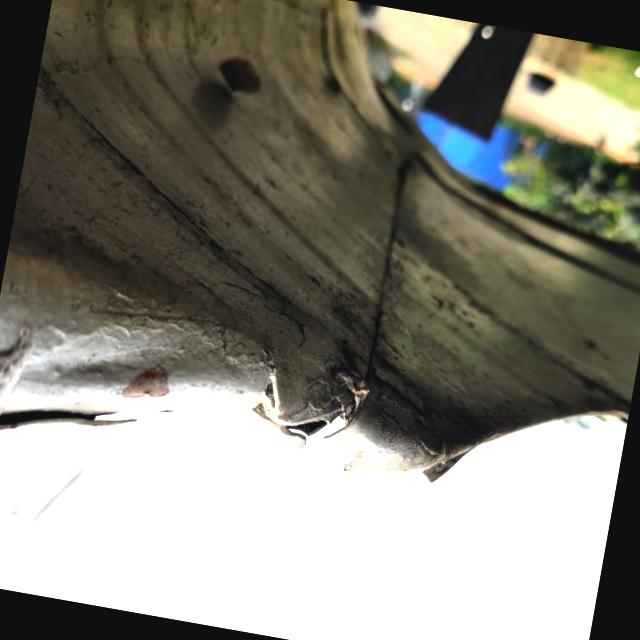crack: (355, 411, 487, 512), (258, 362, 376, 472)
